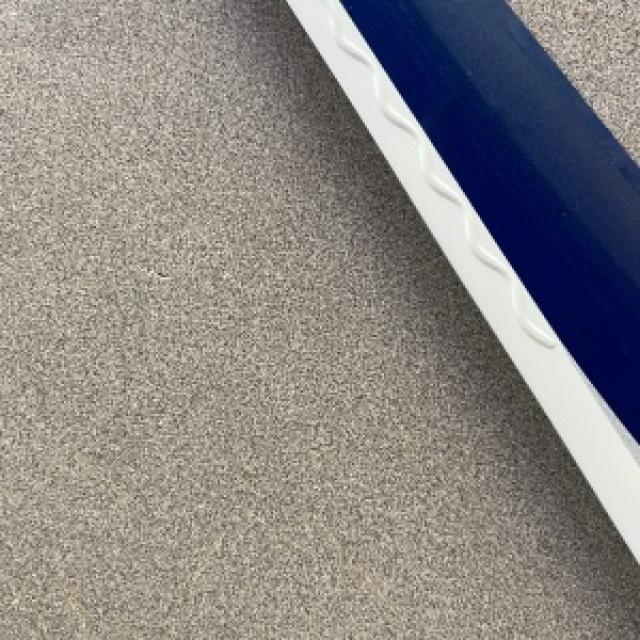healthy: (0, 0, 638, 638), (286, 0, 638, 557)
